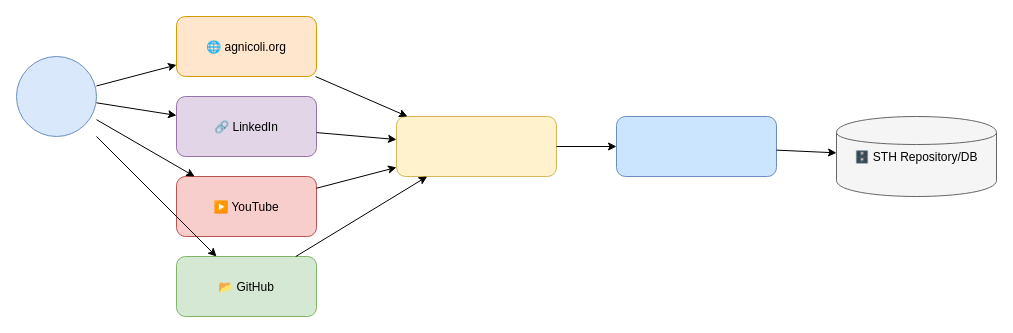
Image size: 1013x333. Some labels were removed from this diagram. Here are the shapes that lost their labels. From the top down, the centre of each, then its label:
At point 56,96: "👤 User".
At point 476,146: "📦 GTM (Tag Manager)".
At point 696,146: "📊 GA4 (Analytics)".
